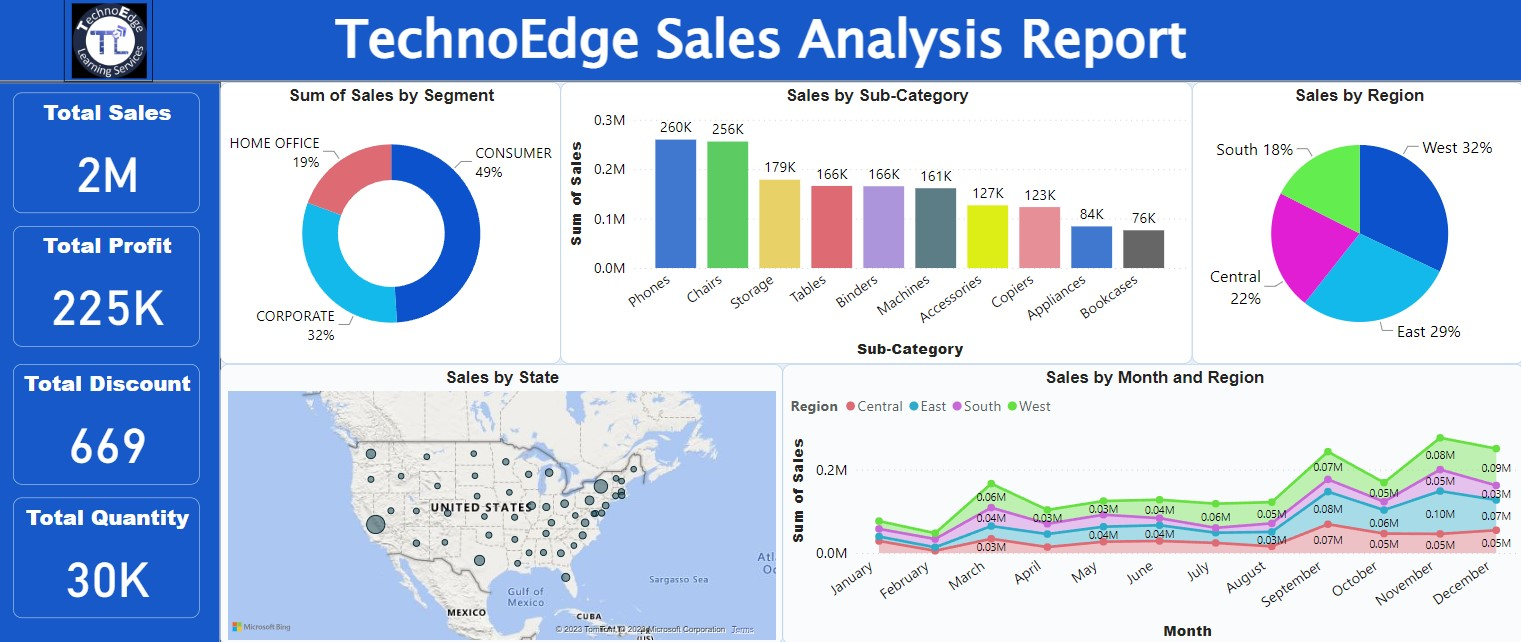

The dashboard page shown, as its layout file describes it:
{"tool":"powerbi","page":{"name":"Page 1","canvas":[1700,720],"ordinal":0},"visuals":[{"type":"shape","box":[0,0,1700,92.6],"z":0},{"type":"shape","box":[0,92.6,250.5,627.9],"z":1},{"type":"card","title":"Total Sales","fields":{"Values":["Sum(TechnoEdge Monthy Sales Data.Sales)"]},"box":[20.6,104.6,207.6,133.8],"z":2},{"type":"card","title":"Total Profit","fields":{"Values":["Sum(TechnoEdge Monthy Sales Data.Profit)"]},"box":[20.6,253.9,207.6,133.8],"z":3},{"type":"card","title":"Total Discount","fields":{"Values":["Sum(TechnoEdge Monthy Sales Data.Discount)"]},"box":[20.6,406.6,207.6,133.8],"z":4},{"type":"card","title":"Total Quantity","fields":{"Values":["Sum(TechnoEdge Monthy Sales Data.Quantity)"]},"box":[20.6,555.8,207.6,133.8],"z":5},{"type":"stackedAreaChart","title":"Sales by Month and Region","fields":{"Category":["TechnoEdge Monthy Sales Data.Order Date.Variation.Date Hierarchy.Year","TechnoEdge Monthy Sales Data.Order Date.Variation.Date Hierarchy.Month"],"Y":["Sum(TechnoEdge Monthy Sales Data.Sales)"],"Series":["TechnoEdge Monthy Sales Data.Region"]},"box":[875,406.7,825,313.3],"z":6},{"type":"map","title":"Sales by State","fields":{"Category":["TechnoEdge Monthy Sales Data.State"],"Size":["Sum(TechnoEdge Monthy Sales Data.Sales)"]},"box":[250,406.7,625,313.3],"z":7},{"type":"columnChart","title":"Sales by Sub-Category","fields":{"Category":["TechnoEdge Monthy Sales Data.Sub-Category"],"Y":["Sum(TechnoEdge Monthy Sales Data.Sales)"]},"box":[628.3,93.3,701.7,313.3],"z":8},{"type":"pieChart","title":"Sales by Region","fields":{"Category":["TechnoEdge Monthy Sales Data.Region"],"Y":["Sum(TechnoEdge Monthy Sales Data.Sales)"]},"box":[1330,93.3,370,313.3],"z":9},{"type":"donutChart","fields":{"Category":["TechnoEdge Monthy Sales Data.Segment"],"Y":["Sum(TechnoEdge Monthy Sales Data.Sales)"]},"box":[250,93.3,378.3,313.3],"z":10},{"type":"image","box":[76.7,0,98.3,93.3],"z":11}]}

Visuals, with their boxes in screenshot pixels (x1, y1, x2, y2), scaled from the page's 1700x720 canvas onto the 1521x642 screenshot:
shape: BBox(0, 0, 1520, 83)
shape: BBox(0, 83, 224, 641)
"Total Sales" card: BBox(18, 93, 204, 213)
"Total Profit" card: BBox(18, 226, 204, 346)
"Total Discount" card: BBox(18, 363, 204, 482)
"Total Quantity" card: BBox(18, 496, 204, 615)
"Sales by Month and Region" stackedAreaChart: BBox(783, 363, 1520, 641)
"Sales by State" map: BBox(224, 363, 783, 641)
"Sales by Sub-Category" columnChart: BBox(562, 83, 1190, 363)
"Sales by Region" pieChart: BBox(1190, 83, 1520, 363)
donutChart - TechnoEdge Monthy Sales Data.Segment x Sum(TechnoEdge Monthy Sales Data.Sales): BBox(224, 83, 562, 363)
image: BBox(69, 0, 157, 83)
